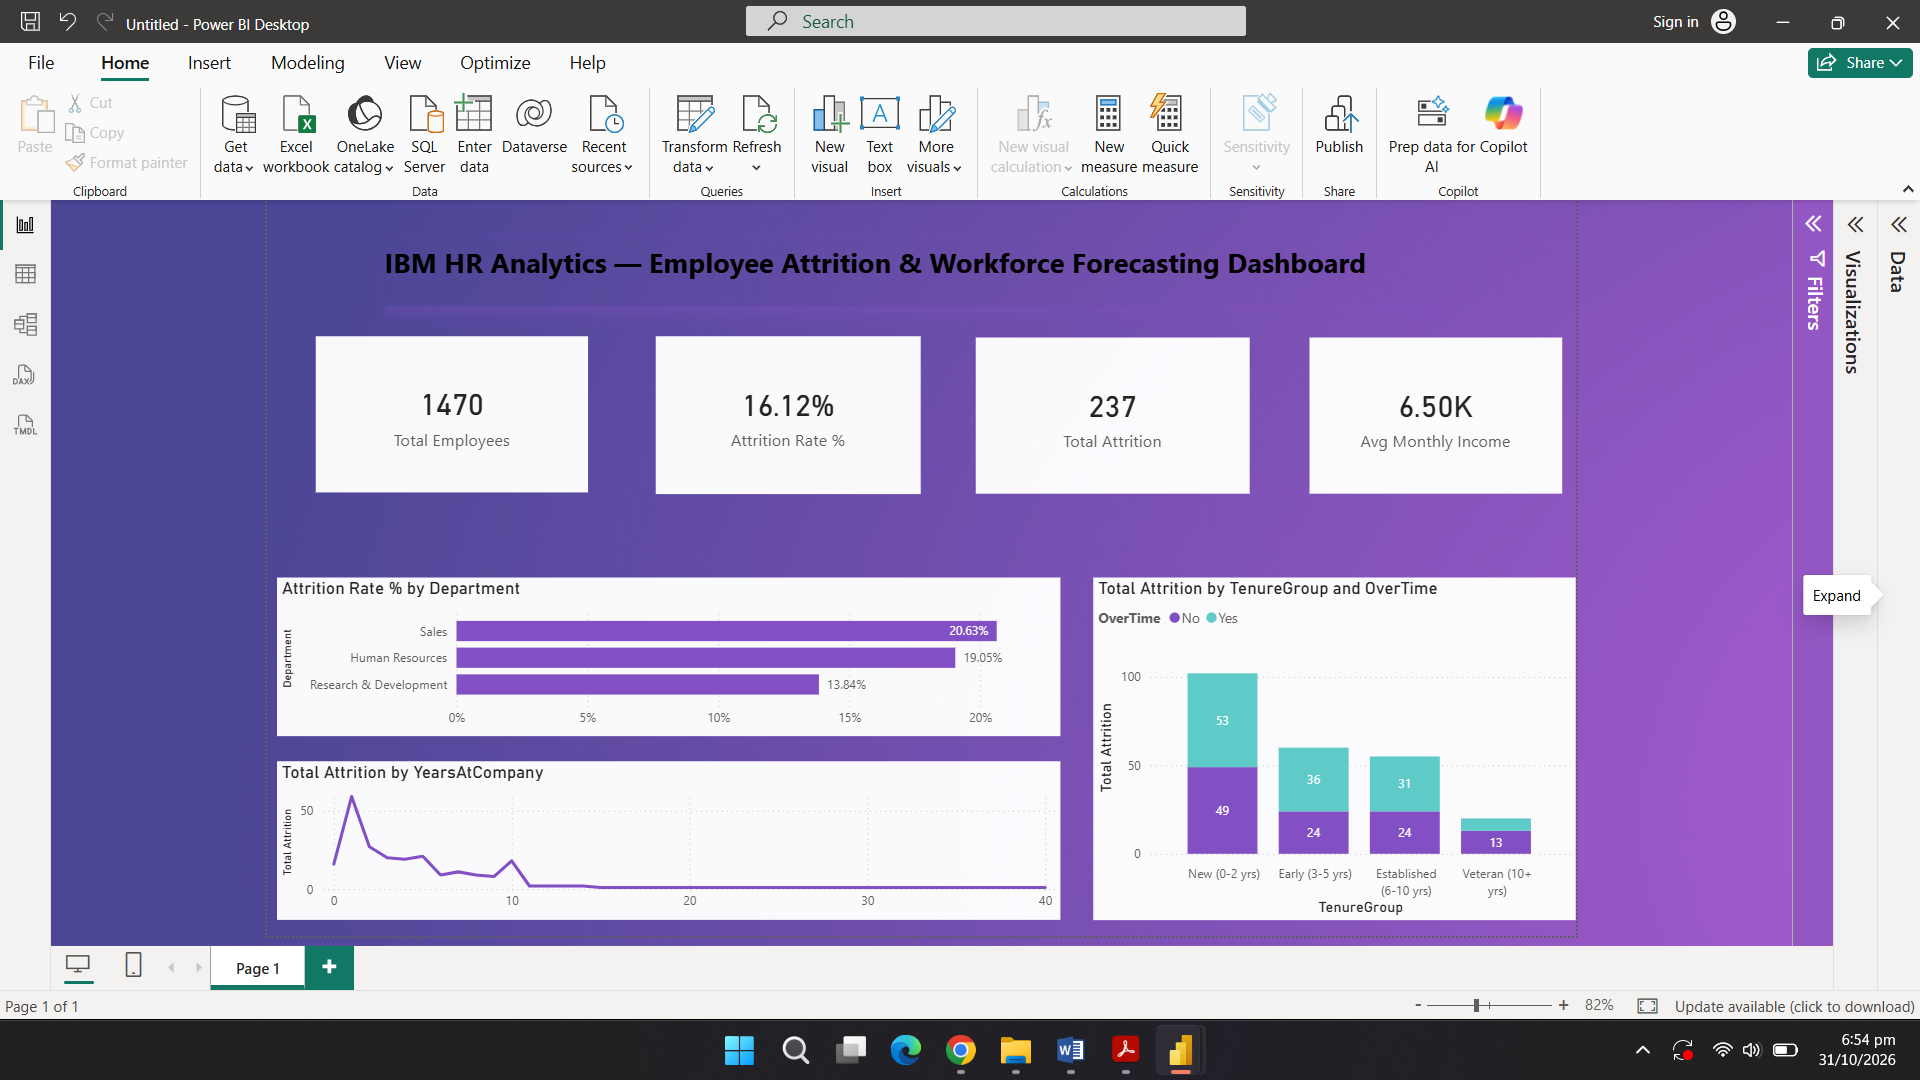

This screenshot's page, from the dashboard's own definition file:
{"tool":"powerbi","page":{"name":"Page 1","canvas":[1280,720],"ordinal":0},"visuals":[{"type":"card","fields":{"Values":["IBM_HR_Attrition_Enhanced.Total Employees"]},"box":[47.7,133.3,266.6,152.9],"z":0},{"type":"card","fields":{"Values":["IBM_HR_Attrition_Enhanced.Attrition Rate %"]},"box":[380.3,133.3,259.2,154.1],"z":1000},{"type":"card","fields":{"Values":["IBM_HR_Attrition_Enhanced.Total Attrition"]},"box":[693.3,134.5,267.8,152.9],"z":2000},{"type":"card","fields":{"Values":["IBM_HR_Attrition_Enhanced.Avg Monthly Income"]},"box":[1019.8,134.5,247,152.9],"z":3000},{"type":"clusteredBarChart","fields":{"Category":["IBM_HR_Attrition_Enhanced.Department"],"Y":["IBM_HR_Attrition_Enhanced.Attrition Rate %"]},"box":[9.8,369.3,766.7,155.3],"z":4000},{"type":"columnChart","fields":{"Category":["IBM_HR_Attrition_Enhanced.TenureGroup"],"Y":["IBM_HR_Attrition_Enhanced.Total Attrition"],"Series":["IBM_HR_Attrition_Enhanced.OverTime"]},"box":[808.3,369.3,472,335.1],"z":4001},{"type":"lineChart","fields":{"Y":["IBM_HR_Attrition_Enhanced.Total Attrition"],"Category":["IBM_HR_Attrition_Enhanced.YearsAtCompany"]},"box":[9.8,549.1,766.7,155.3],"z":4002},{"type":"textbox","box":[109.8,38.4,1033.3,65.9],"z":4003}]}

Visuals, with their boxes on the page's 1280x720 design canvas (x1, y1, x2, y2). These are canvas units, not pixel positions in the 1920x1080 screenshot, which may show the page scaled, cropped or inside an application window:
card - IBM_HR_Attrition_Enhanced.Total Employees: (48,133,314,286)
card - IBM_HR_Attrition_Enhanced.Attrition Rate %: (380,133,640,287)
card - IBM_HR_Attrition_Enhanced.Total Attrition: (693,134,961,287)
card - IBM_HR_Attrition_Enhanced.Avg Monthly Income: (1020,134,1267,287)
clusteredBarChart - IBM_HR_Attrition_Enhanced.Department x IBM_HR_Attrition_Enhanced.Attrition Rate %: (10,369,776,525)
columnChart - IBM_HR_Attrition_Enhanced.TenureGroup x IBM_HR_Attrition_Enhanced.Total Attrition: (808,369,1280,704)
lineChart - IBM_HR_Attrition_Enhanced.Total Attrition x IBM_HR_Attrition_Enhanced.YearsAtCompany: (10,549,776,704)
textbox: (110,38,1143,104)
